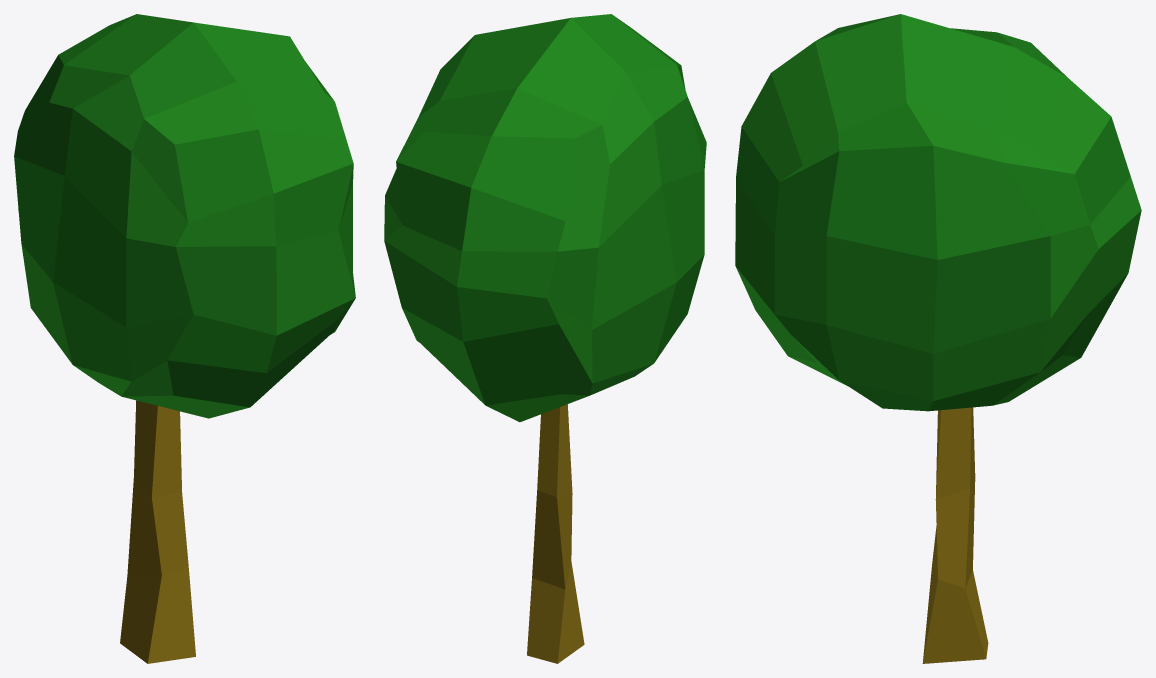
3 renders of one model, left to right at view 1: azimuth 30°, elevation 25°; view 2: azimuth 150°, elevation 25°; view 3: azimuth 270°, elevation 25°, orthographic. The views are drawn at different scales.
Visible parts, largest first — view 1: Cube.001, Cube; view 2: Cube.001, Cube; view 3: Cube.001, Cube.
Boxes of the visible parts, x1,y1,x2,y2 form: Cube.001: (14,14,355,418); Cube: (120,400,195,663); Cube.001: (384,14,706,422); Cube: (527,404,584,663); Cube.001: (735,14,1141,411); Cube: (922,407,988,663).
Bounding box in the file's own units: 36.58 × 83.42 × 47.75.
